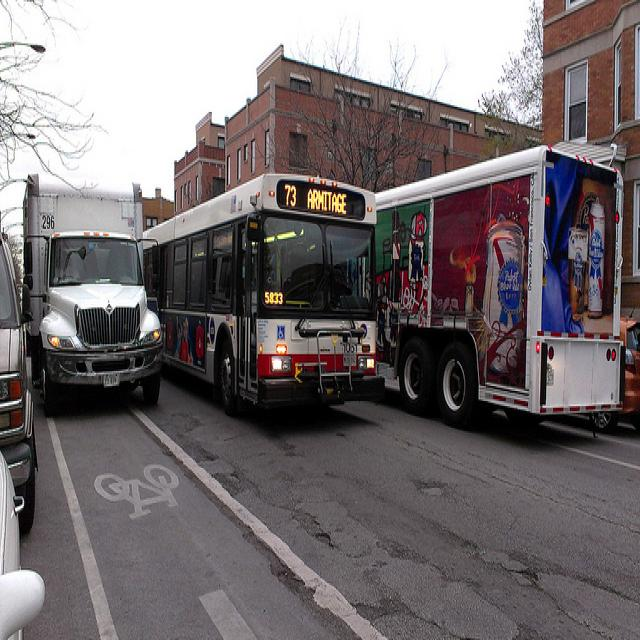Vehicle: (376, 144, 625, 426), (374, 145, 623, 425), (143, 178, 383, 404), (21, 175, 163, 422), (0, 232, 40, 537), (0, 233, 39, 536), (0, 452, 46, 632), (588, 313, 640, 439)
